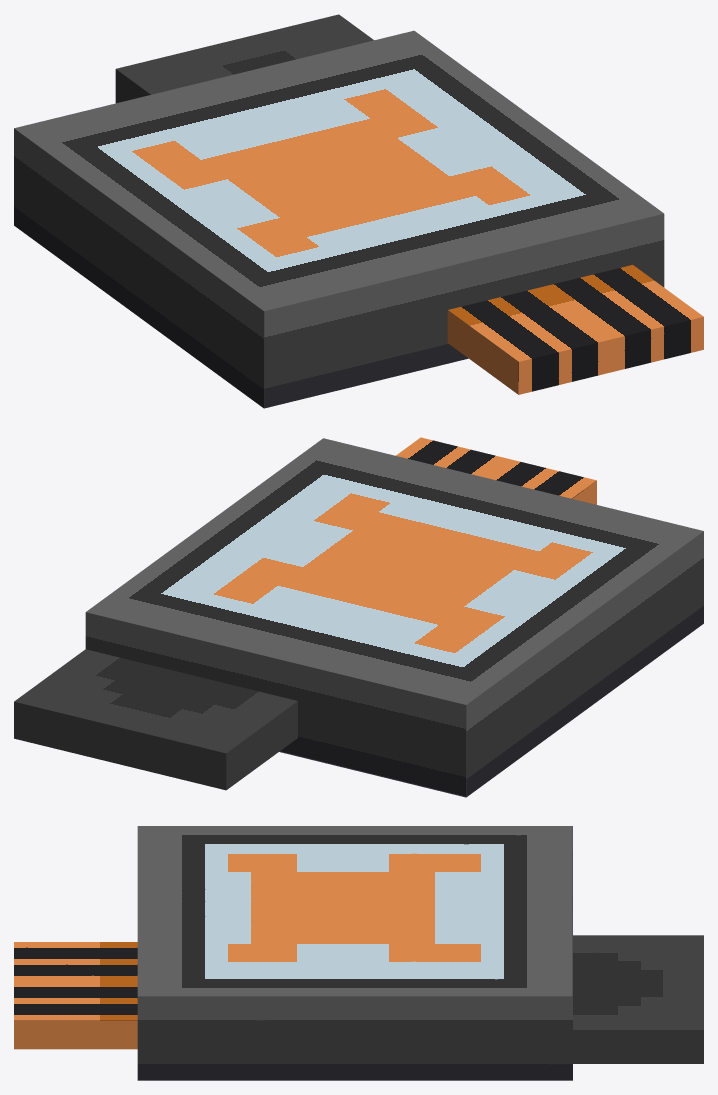
Rendered from Upgrade Node.fbx.
3 views of the same model, one above another, from view 1: azimuth 30°, elevation 25°; view 2: azimuth 150°, elevation 25°; view 3: azimuth 270°, elevation 25° (orthographic). The views are drawn at different scales.
Parts seen in each view (by area): view 1: pCube19, pCube20; view 2: pCube19, pCube20; view 3: pCube19, pCube20.
Boxes of the visible parts, left/top/right/bottom form: pCube19: left=14, top=14, right=664, bottom=408; pCube20: left=447, top=265, right=703, bottom=394; pCube19: left=14, top=438, right=703, bottom=797; pCube20: left=396, top=437, right=596, bottom=504; pCube19: left=137, top=826, right=703, bottom=1080; pCube20: left=14, top=942, right=137, bottom=1049.
Bounding box in the file's own units: 0.9244 × 0.2147 × 1.59.
